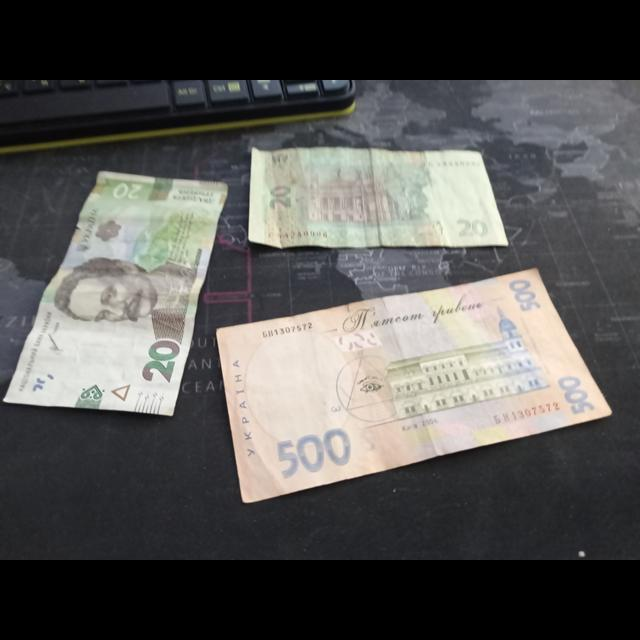20uah: (3, 171, 229, 416), (249, 146, 508, 249)
500uah: (214, 269, 611, 504)
